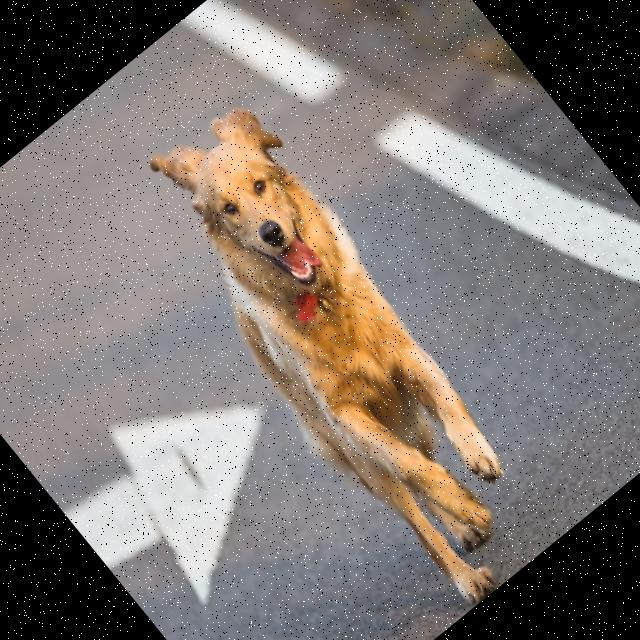Dog: (97, 83, 587, 628)
